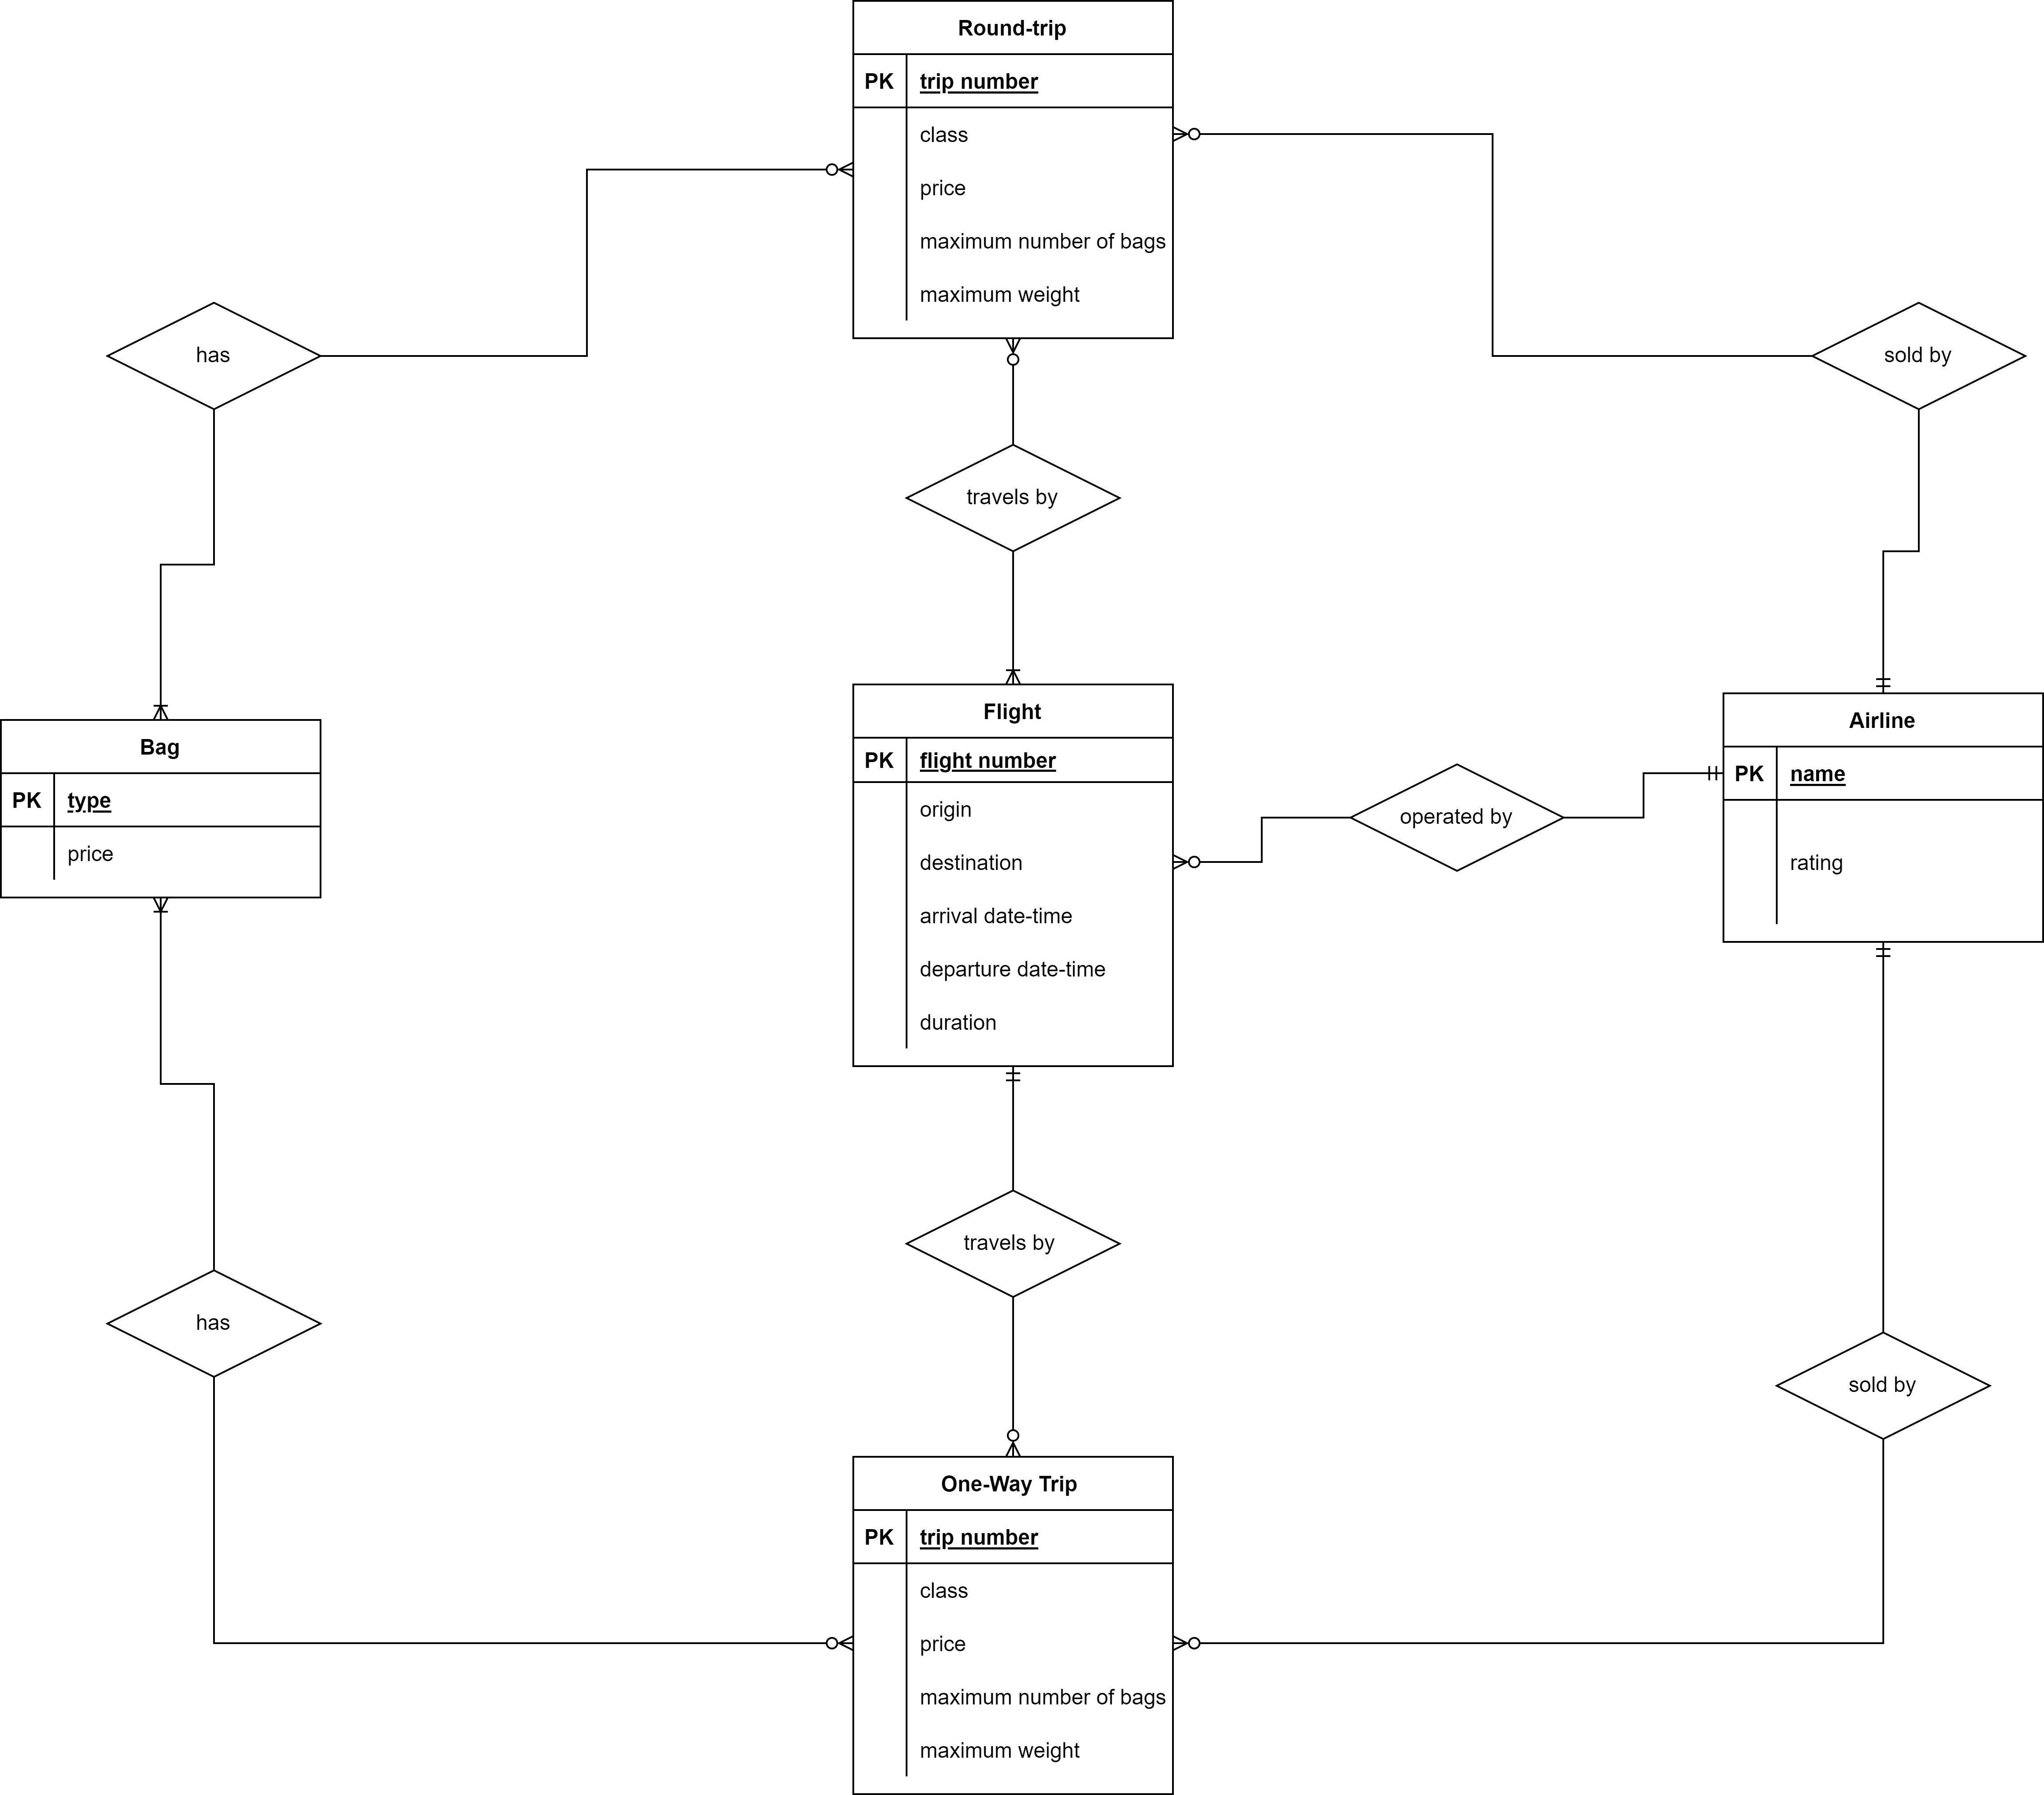entity: (848, 681, 1178, 1070), (853, 1453, 1180, 1795), (852, 0, 1177, 341), (1724, 690, 2044, 940), (0, 712, 328, 905)
relationship: (907, 441, 1126, 560), (106, 297, 322, 407), (1778, 1329, 1985, 1435), (907, 1192, 1121, 1295), (109, 1268, 313, 1374), (1823, 301, 2020, 410), (1359, 763, 1556, 871)
